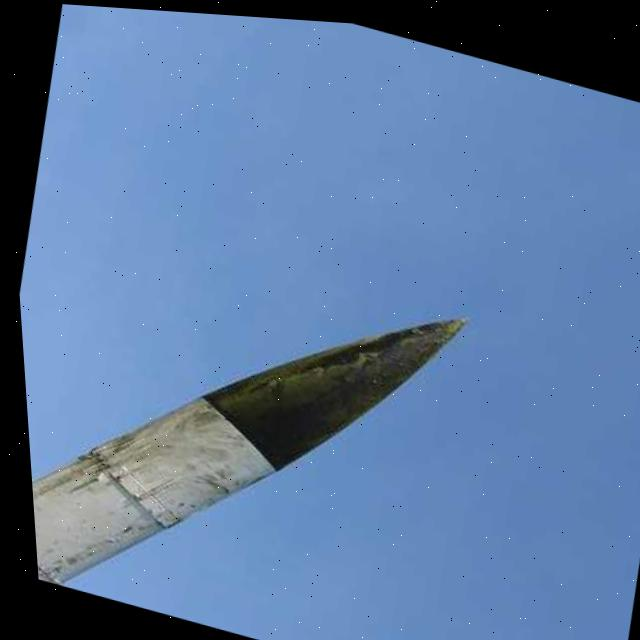missile: (10, 196, 487, 640)
